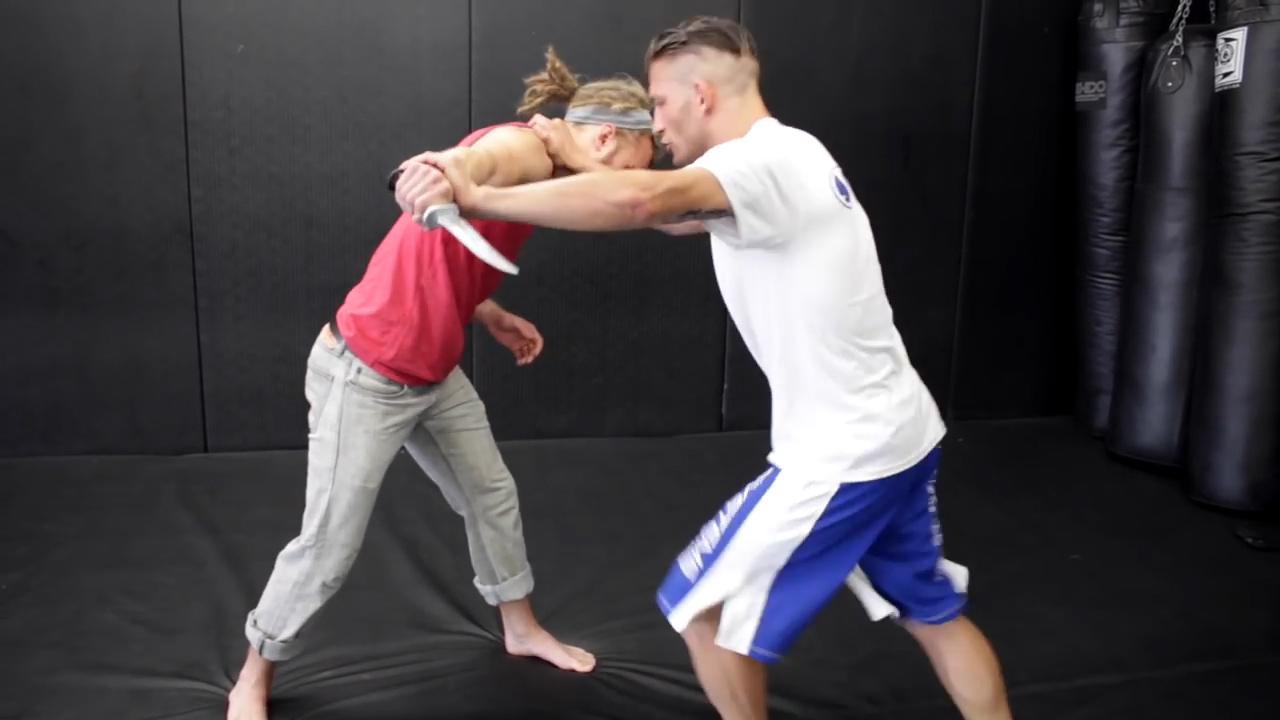knife: (386, 159, 530, 285)
